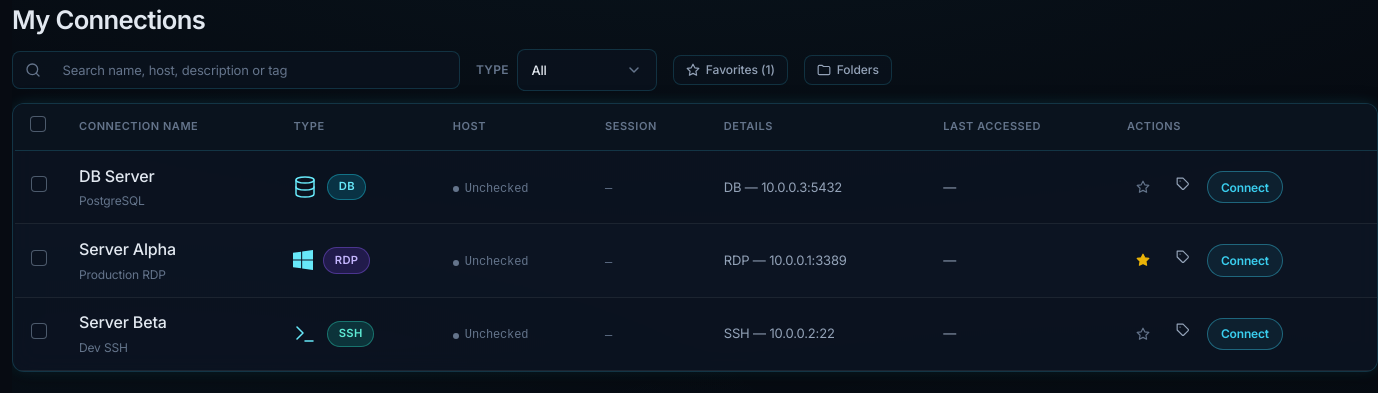
Test: Dashboard › displays smart empty state when scoped search has 0 matches but global matches exist, and 'Show all results' clears scope
Check: the text "Server Alpha" is shown, box [79, 239, 176, 259]
# Enable favorites filter
Click the button titled "Show favorites only". click: (730, 70)
box: [673, 54, 788, 85]
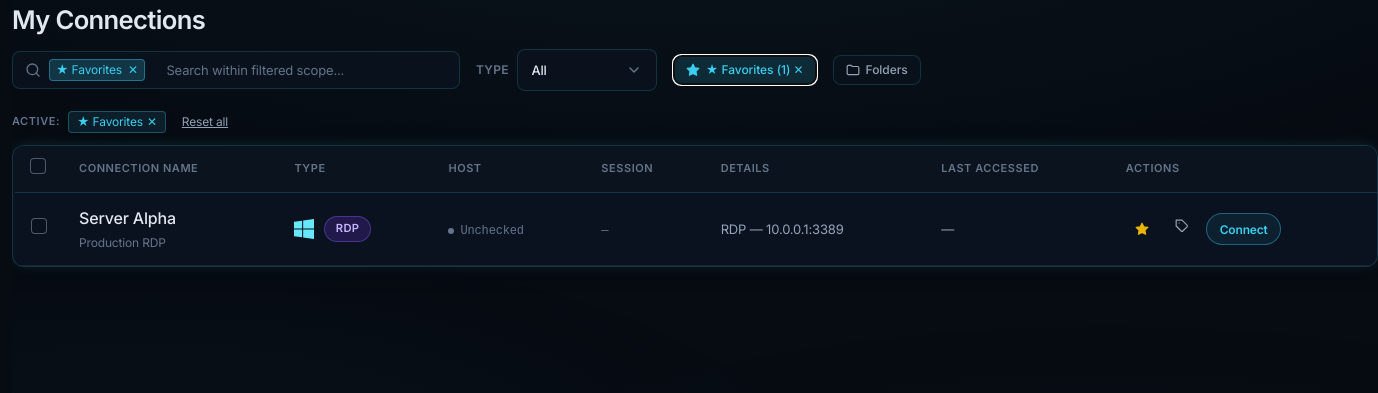
Check: the text "Server Alpha" is shown, box [79, 208, 176, 228]
Check: the text "Server Beta" is gone
# Now search for "Beta" (which is NOT a favorite)
Type "Beta" into the field with placeholder "Search within filtered scope...". click: (300, 70)
box: [153, 52, 447, 88]
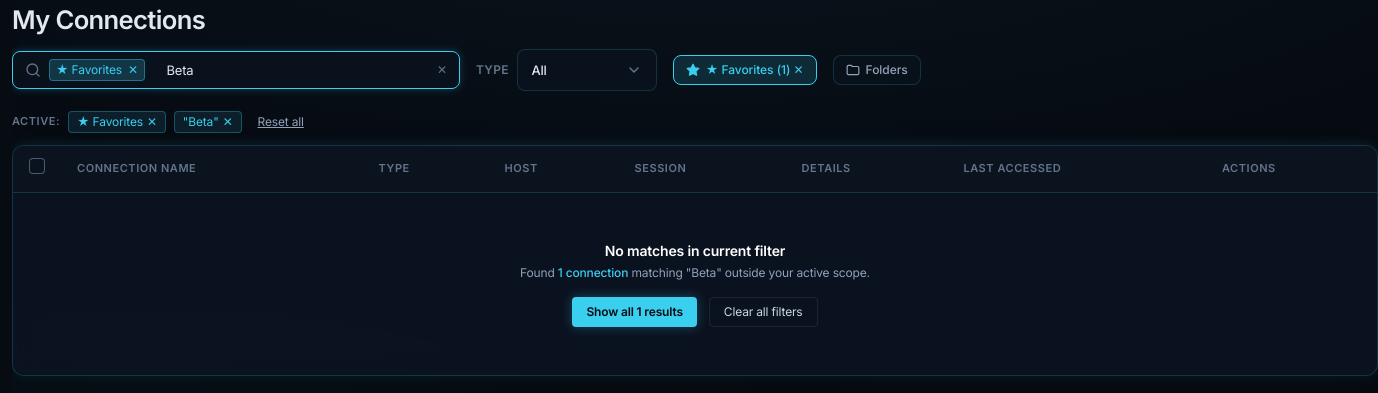
Check: the heading "No matches in current filter" is shown, box [605, 242, 785, 259]
Check: the text "Found" is shown, box [520, 265, 555, 280]
Check: the text "outside your active scope" is shown, box [716, 265, 870, 280]
# Click "Show all 1 results" button
Click the button "Show all 1 results". click: (635, 312)
box: [572, 297, 697, 327]
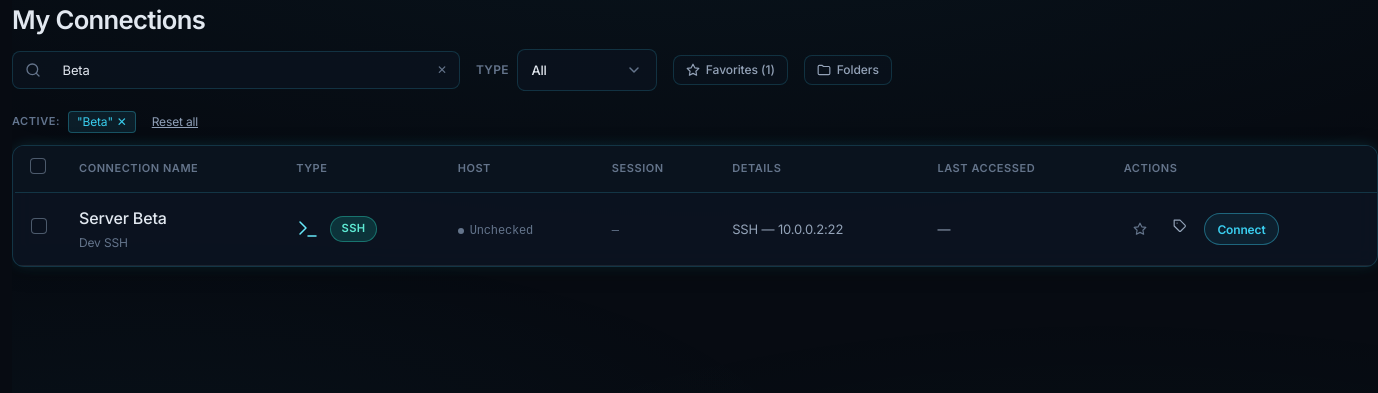
Check: the text "Server Alpha" is not shown
Check: the text "Server Beta" is shown, box [79, 208, 167, 228]
